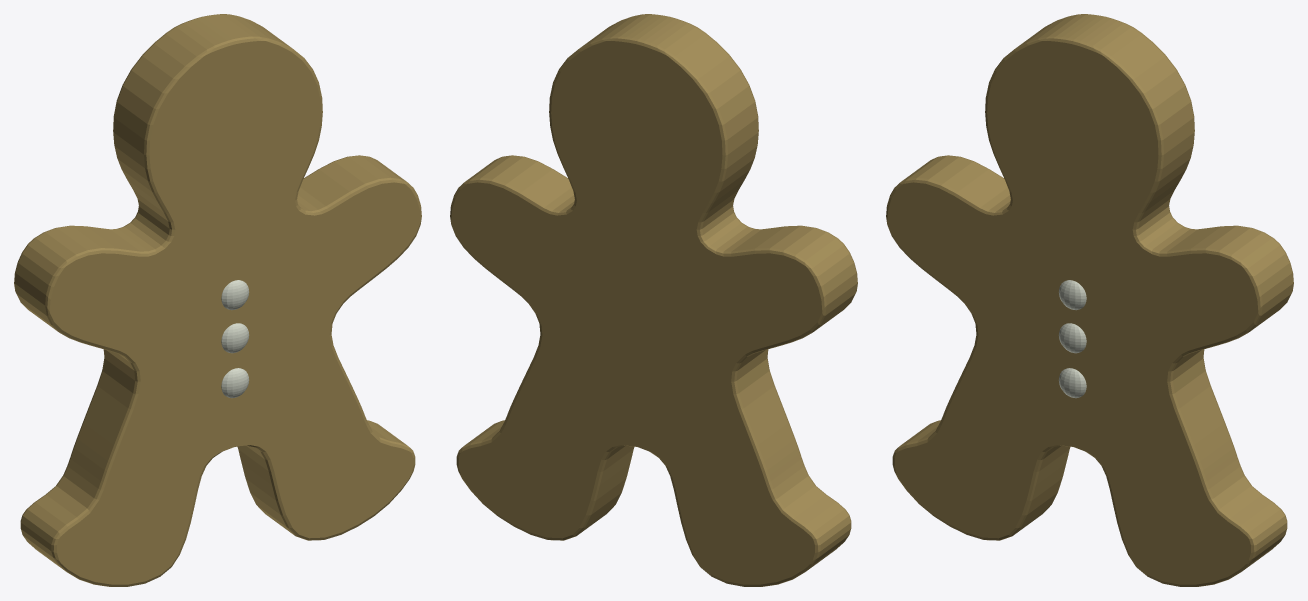
The picture shows the model from 3 angles, left to right: view 1: azimuth 30°, elevation 25°; view 2: azimuth 150°, elevation 25°; view 3: azimuth 330°, elevation 25°; orthographic projection.
Visible parts, largest first — view 1: 平面, 球, 球.001, 球.002; view 2: 平面; view 3: 平面, 球, 球.001, 球.002.
Boxes of the visible parts, box(x1,y1,x2,y2) form: 平面: box(14, 14, 421, 586); 球: box(221, 323, 249, 353); 球.001: box(221, 368, 249, 398); 球.002: box(221, 280, 249, 310); 平面: box(450, 14, 857, 586); 平面: box(886, 14, 1293, 586); 球: box(1058, 323, 1086, 353); 球.001: box(1058, 368, 1086, 398); 球.002: box(1058, 280, 1086, 310).
Size of the model in its own units: 3.69 by 4.9 by 0.6431.
